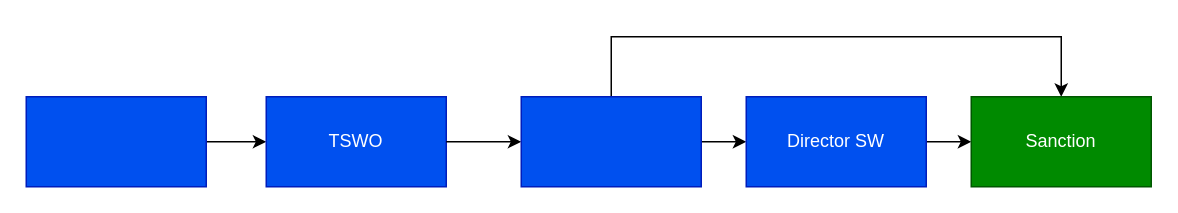
The diagram is 1178 pixels wide and 213 high, and some of its shapes have lost their labels. Each missing label, with the centre of its shape:
Citizen: the point at 115,141
DSWO: the point at 610,141
